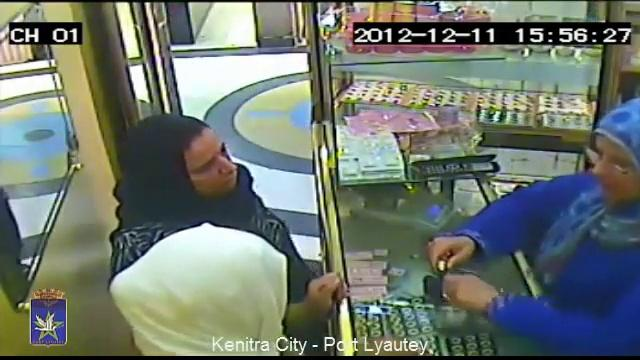Product: (431, 247, 457, 278)
Product-Picked: (382, 81, 640, 353)
Regular: (105, 205, 323, 360), (136, 95, 253, 217)
